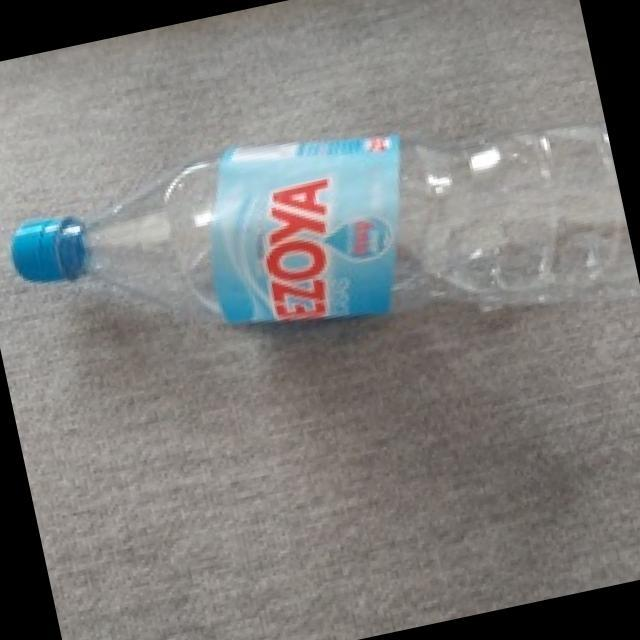good: (0, 40, 636, 396)
